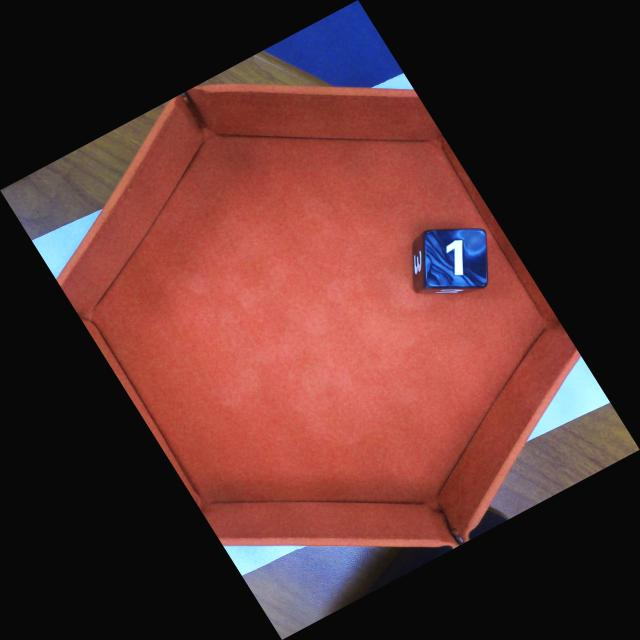dice: (428, 230, 488, 285)
